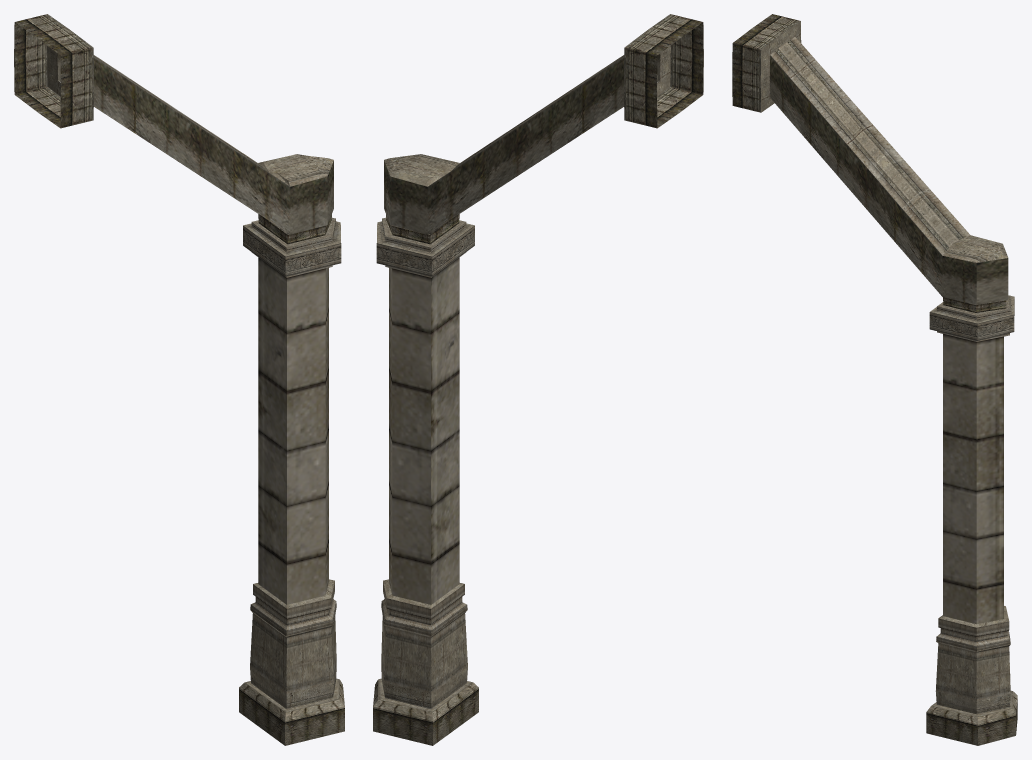
File: SM_Plains_Buttress_01.FBX
The picture shows the model from 3 angles, left to right: view 1: azimuth 30°, elevation 25°; view 2: azimuth 150°, elevation 25°; view 3: azimuth 330°, elevation 25°; orthographic projection. The views are drawn at different scales.
Parts seen in each view (by area): view 1: SM_Plains_Buttress_01; view 2: SM_Plains_Buttress_01; view 3: SM_Plains_Buttress_01.
Part boxes in pixels (x1,y1,x2,y2): SM_Plains_Buttress_01: (14, 14, 344, 745); SM_Plains_Buttress_01: (373, 14, 703, 745); SM_Plains_Buttress_01: (732, 14, 1017, 745).
Bounding box in the file's own units: 94.49 × 220 × 25.2.
